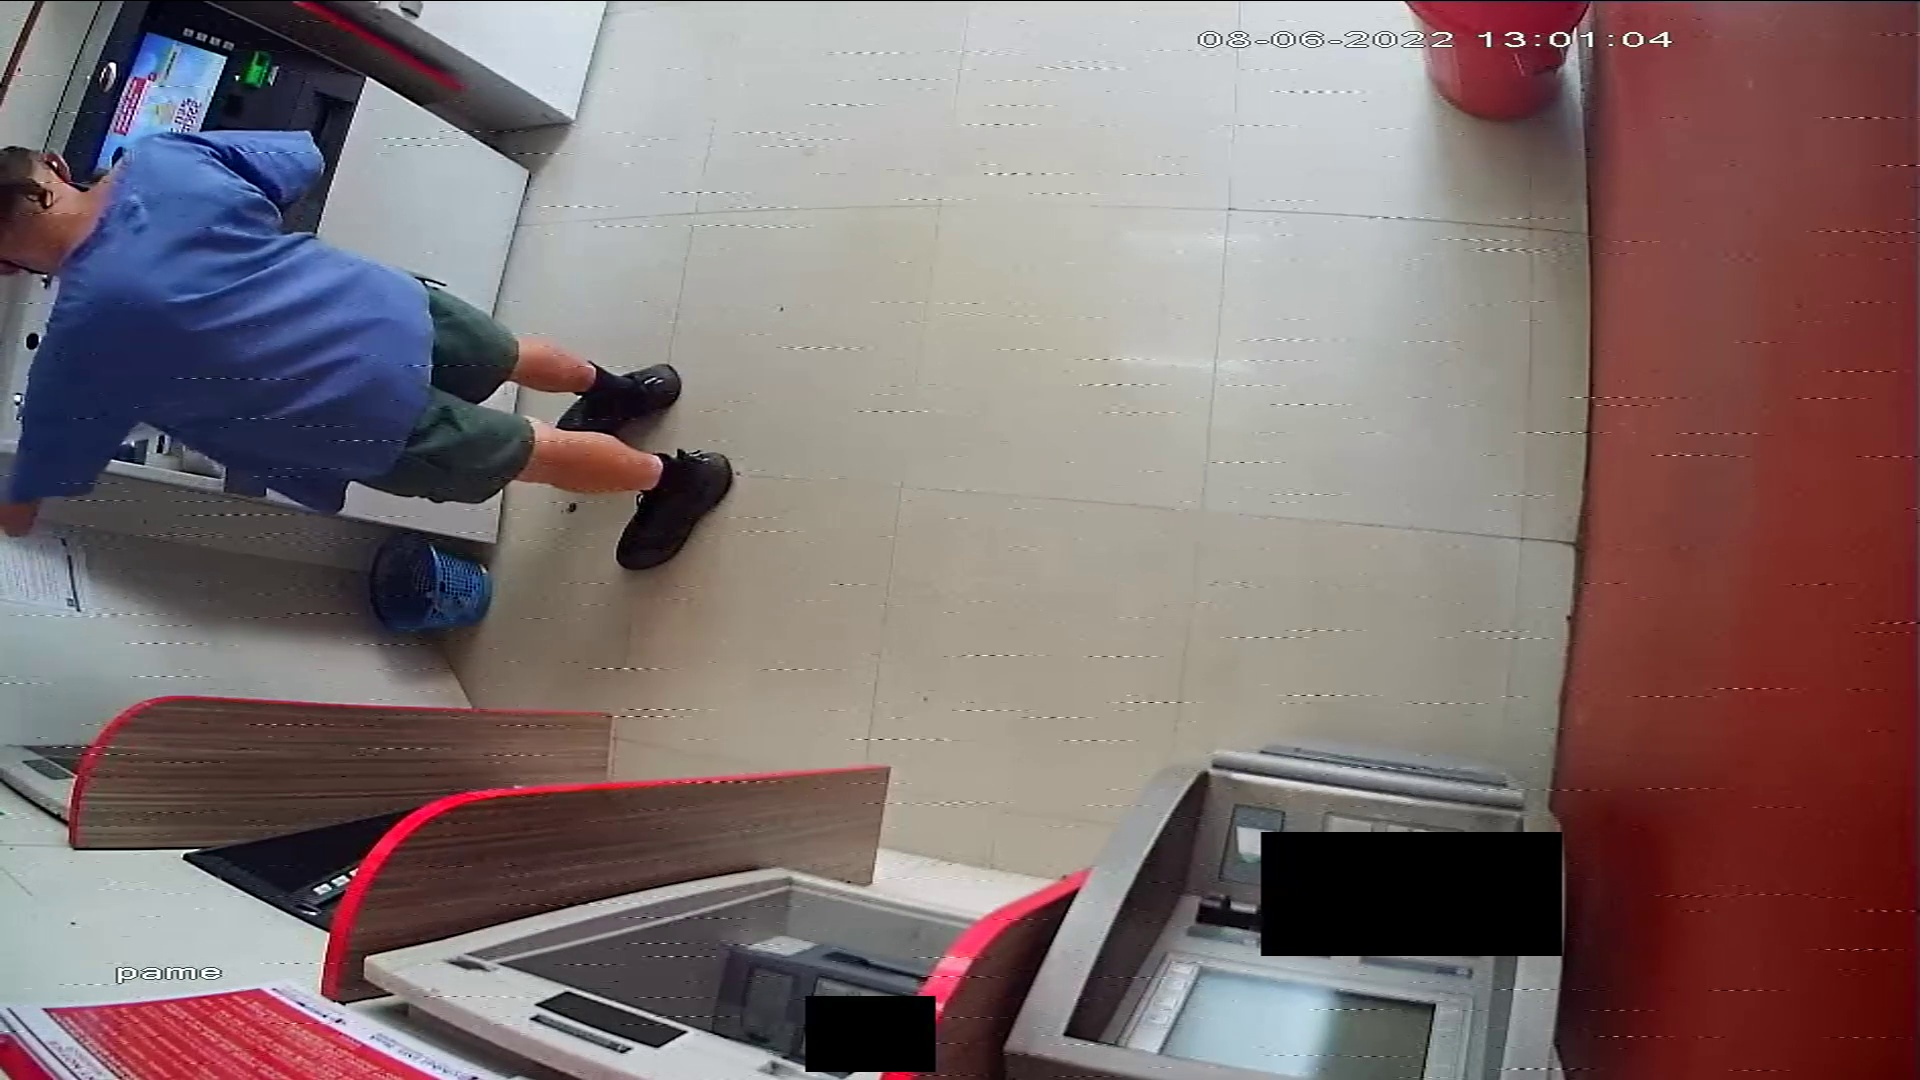person: (1, 126, 733, 573)
